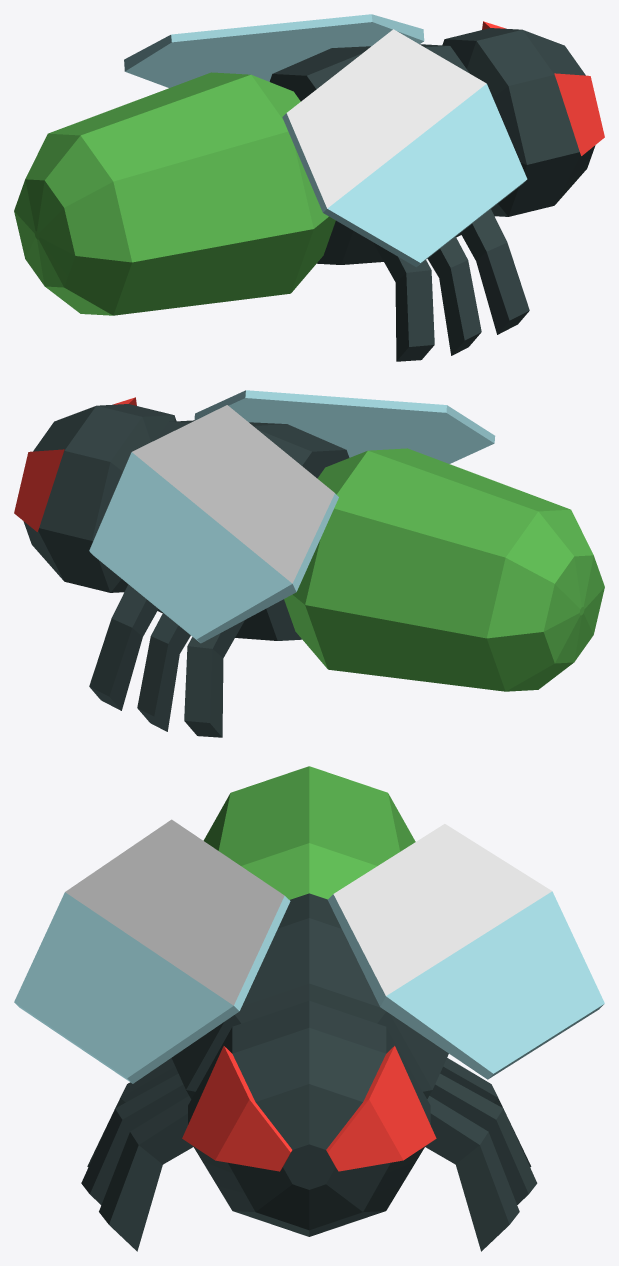
Rendered from fly_aronia_ccby.glb.
3 views of the same model, one above another, from view 1: azimuth 30°, elevation 25°; view 2: azimuth 150°, elevation 25°; view 3: azimuth 270°, elevation 25° (orthographic). The views are drawn at different scales.
Parts seen in each view (by area): view 1: Cube, Cube.001, Cube.002; view 2: Cube, Cube.002, Cube.001; view 3: Cube, Cube.001, Cube.002.
Boxes of the visible parts, box(x1,y1,x2,y2) form: Cube: box(14, 21, 604, 361); Cube.001: box(282, 29, 527, 267); Cube.002: box(124, 14, 424, 87); Cube: box(14, 397, 604, 737); Cube.002: box(89, 405, 338, 643); Cube.001: box(194, 390, 495, 463); Cube: box(81, 766, 537, 1251); Cube.001: box(14, 819, 290, 1083); Cube.002: box(328, 824, 604, 1079).
Size of the model in its own units: 8.55 by 4.06 by 6.65.
